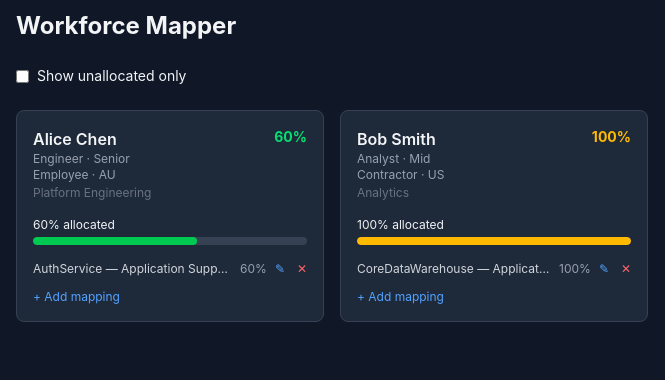
Scenario: MappingView › pencil opens an inline edit form pre-filled with the current percent
Check: the text "Alice Chen" is shown, box [33,129,117,149]
Click the button named "edit AuthService".
click(280, 269)  # box [267,253,293,285]
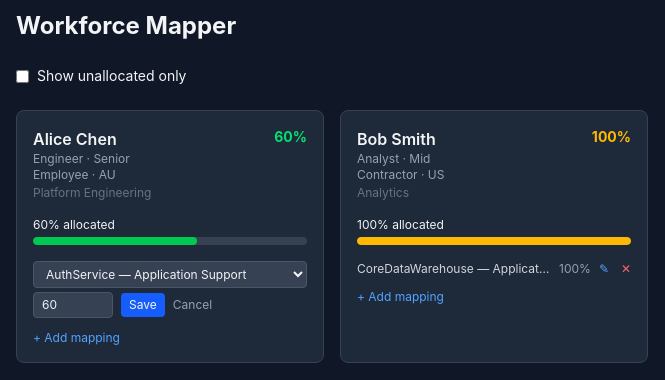
Check: the number field holds "60", box [33,292,113,318]
